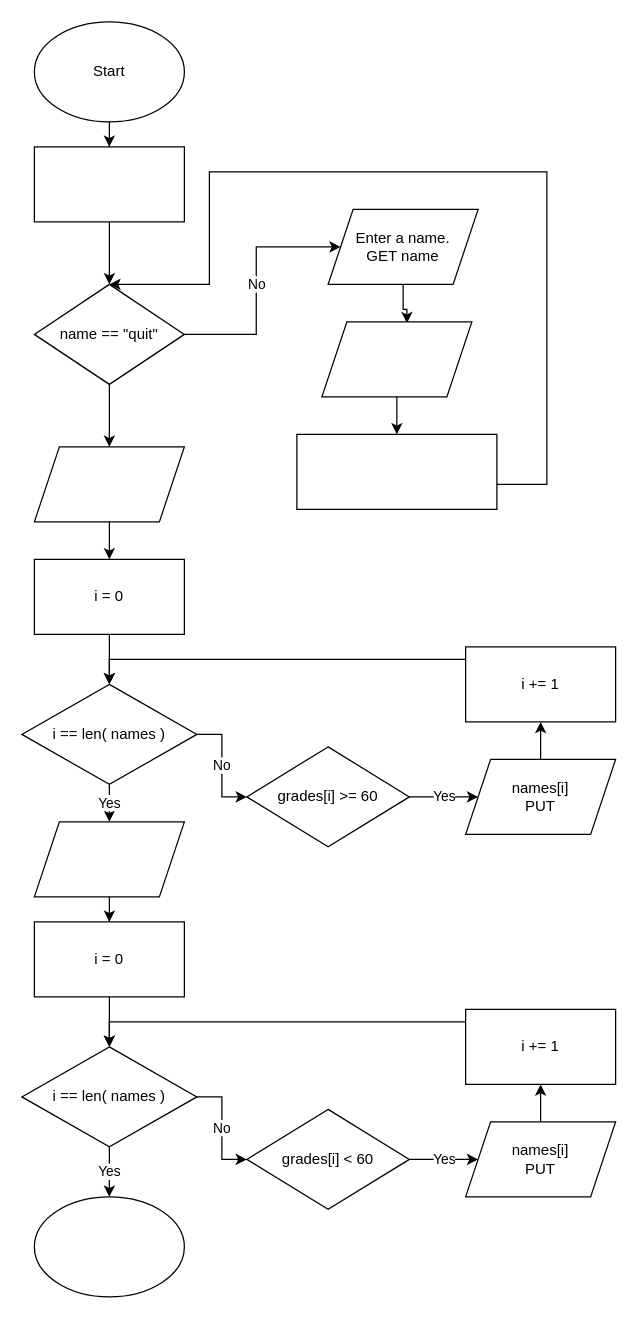
Image size: 638x1319. Some labels were removed from this diagram. The box of each missing label's shape, as (x1, y1, x2, y2) in pixels:
End: (33, 1196, 184, 1297)
Enter a grade. GET grade: (321, 321, 472, 397)
Failed: PUT: (33, 821, 184, 897)
name = "" names = [] grades = []: (33, 146, 184, 222)
names.append(name) grades.append(grade): (296, 433, 497, 509)
Passed: PUT: (33, 446, 184, 522)
